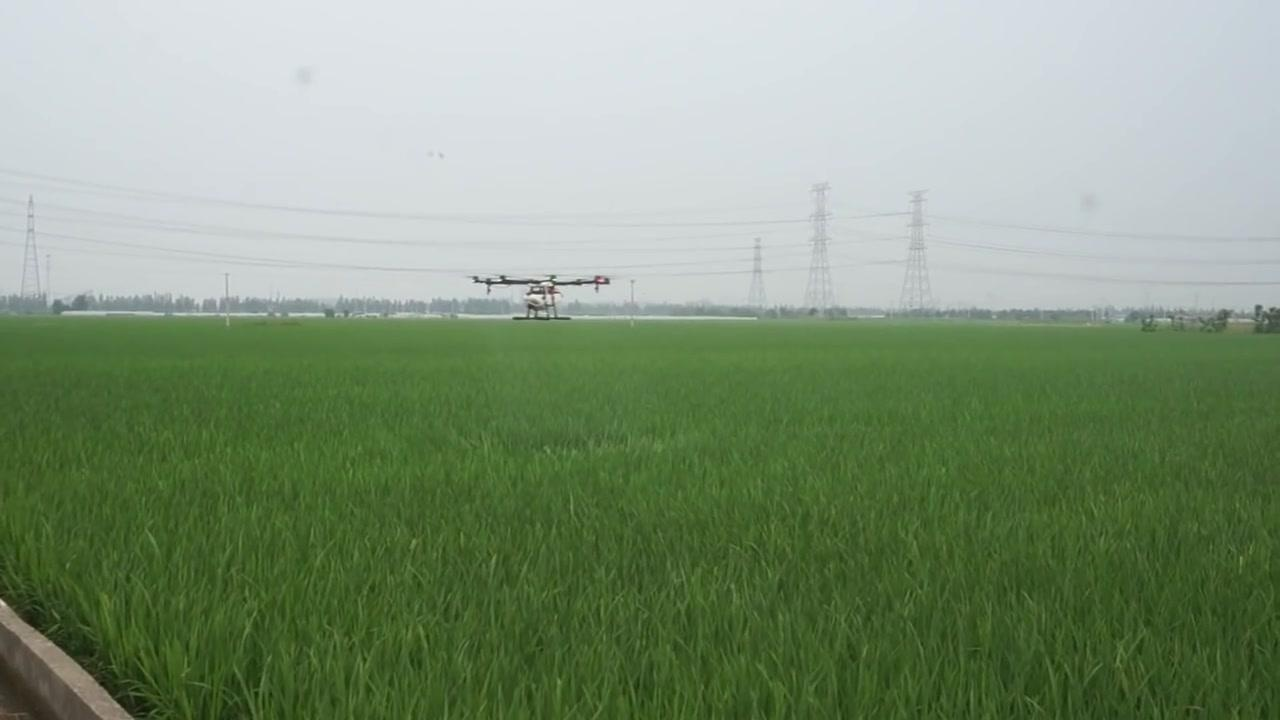UAV: (470, 271, 608, 325)
